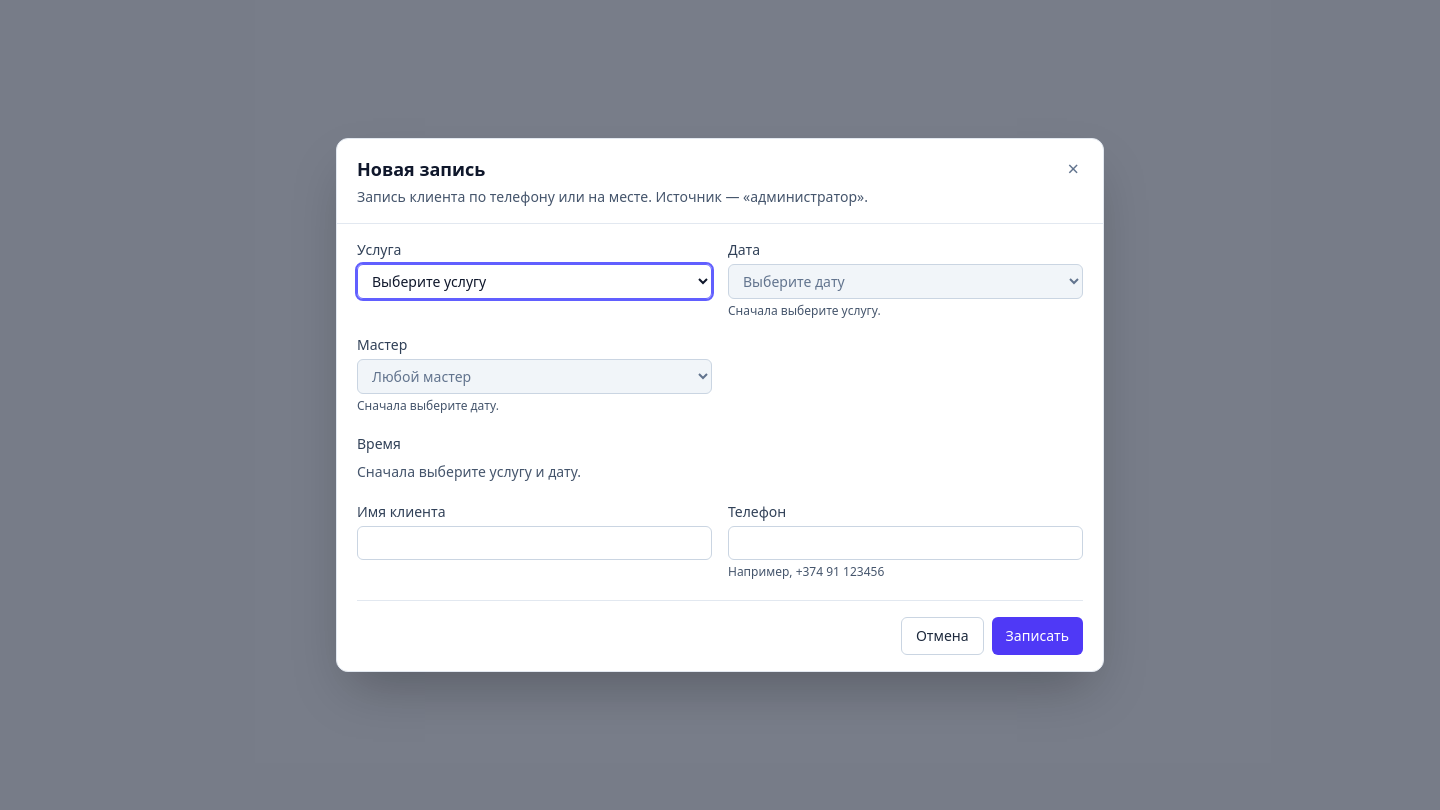
Test: NewBookingDialog › телефон без 5 цифр не отправляется
Select "Мужская стрижка · 30 мин · 4 000 ֏" in the dropdown labelled "Услуга" at (534, 282), box [357,264,712,299]
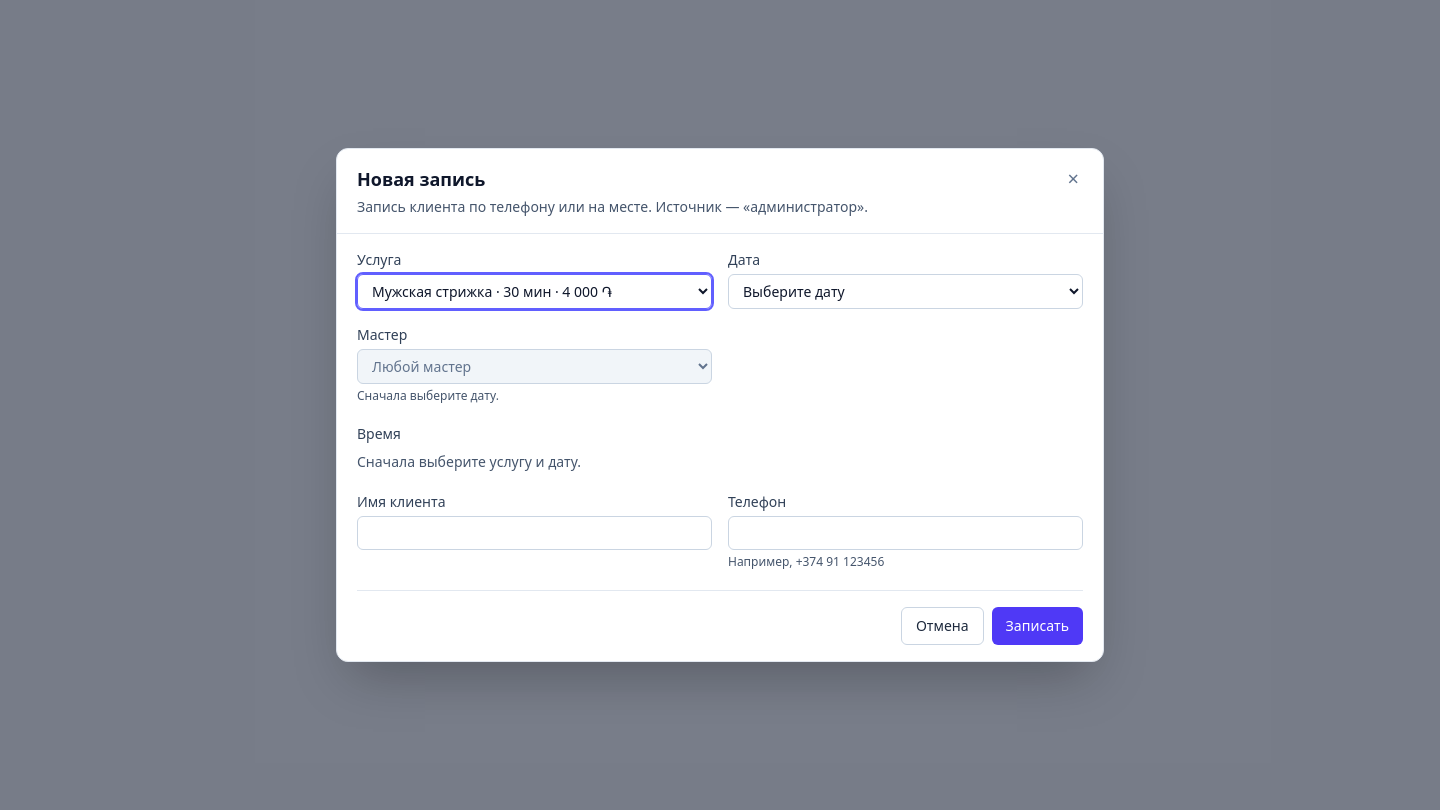
Result: the dropdown labelled "Дата" is enabled
Select "Завтра, чт, 29 октября" in the dropdown labelled "Дата" at (906, 292), box [728,274,1083,309]
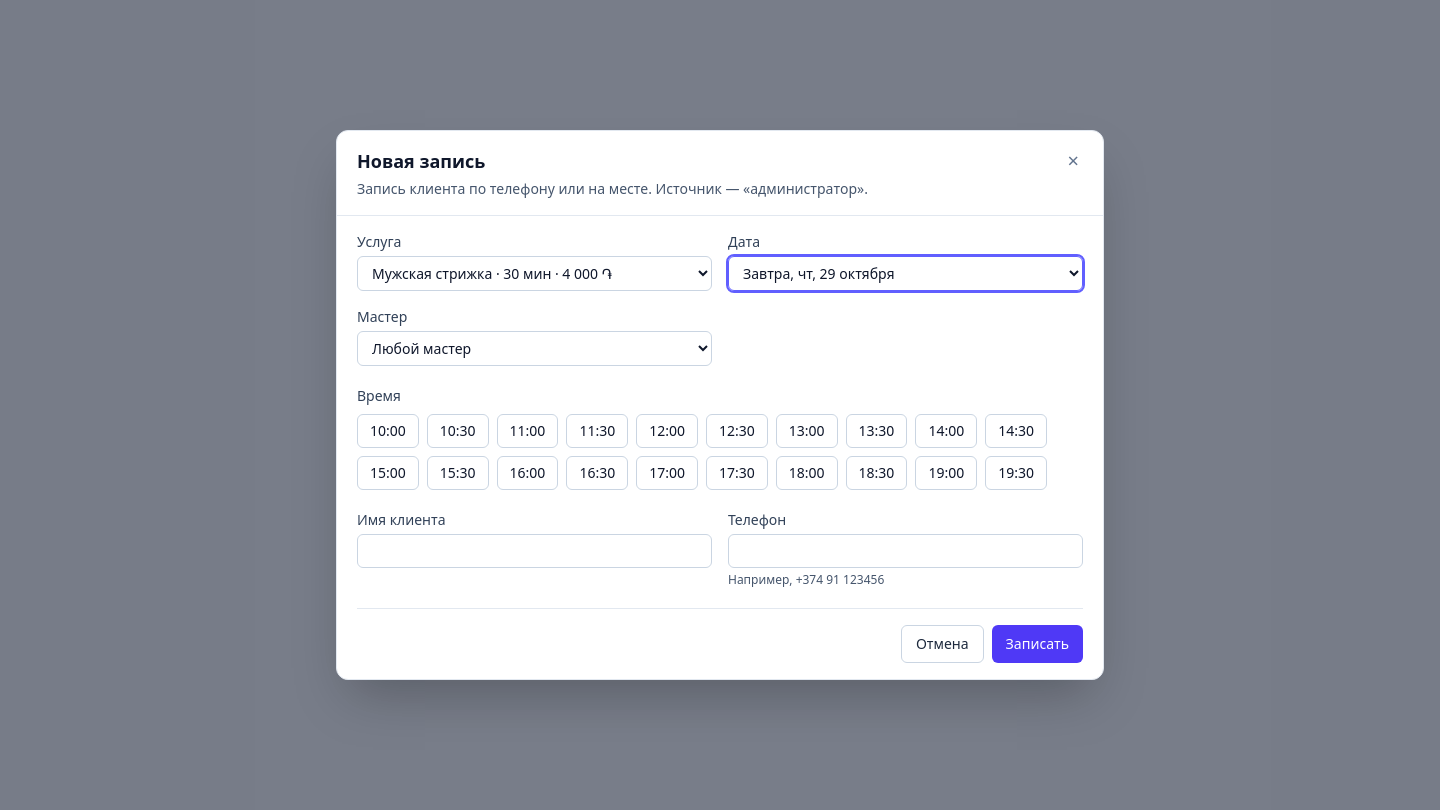
Click the radio button labelled "12:00" at (667, 431), box [636,414,698,448]
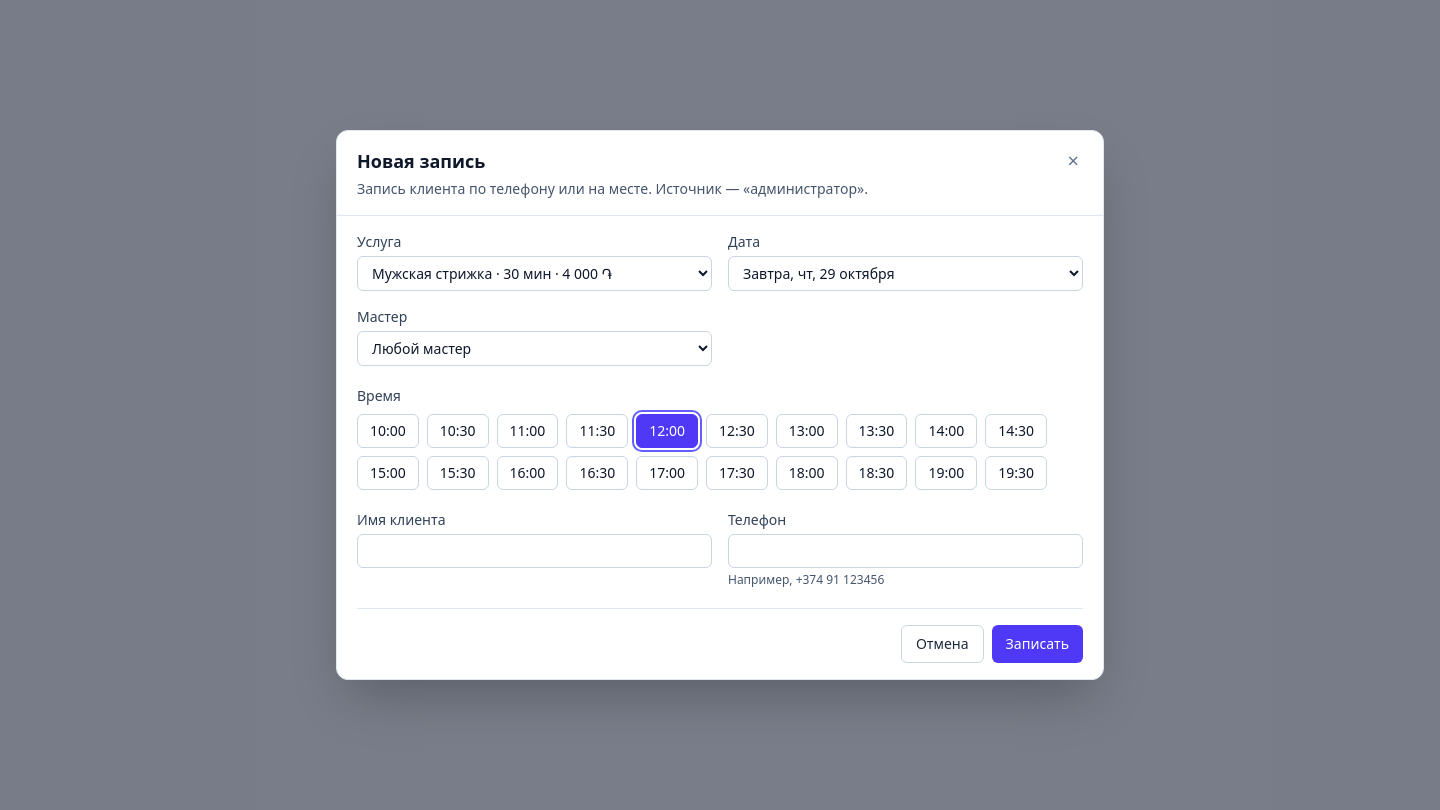
Type "Гаяне" into the field labelled "Имя клиента" at (534, 551), box [357,534,712,568]
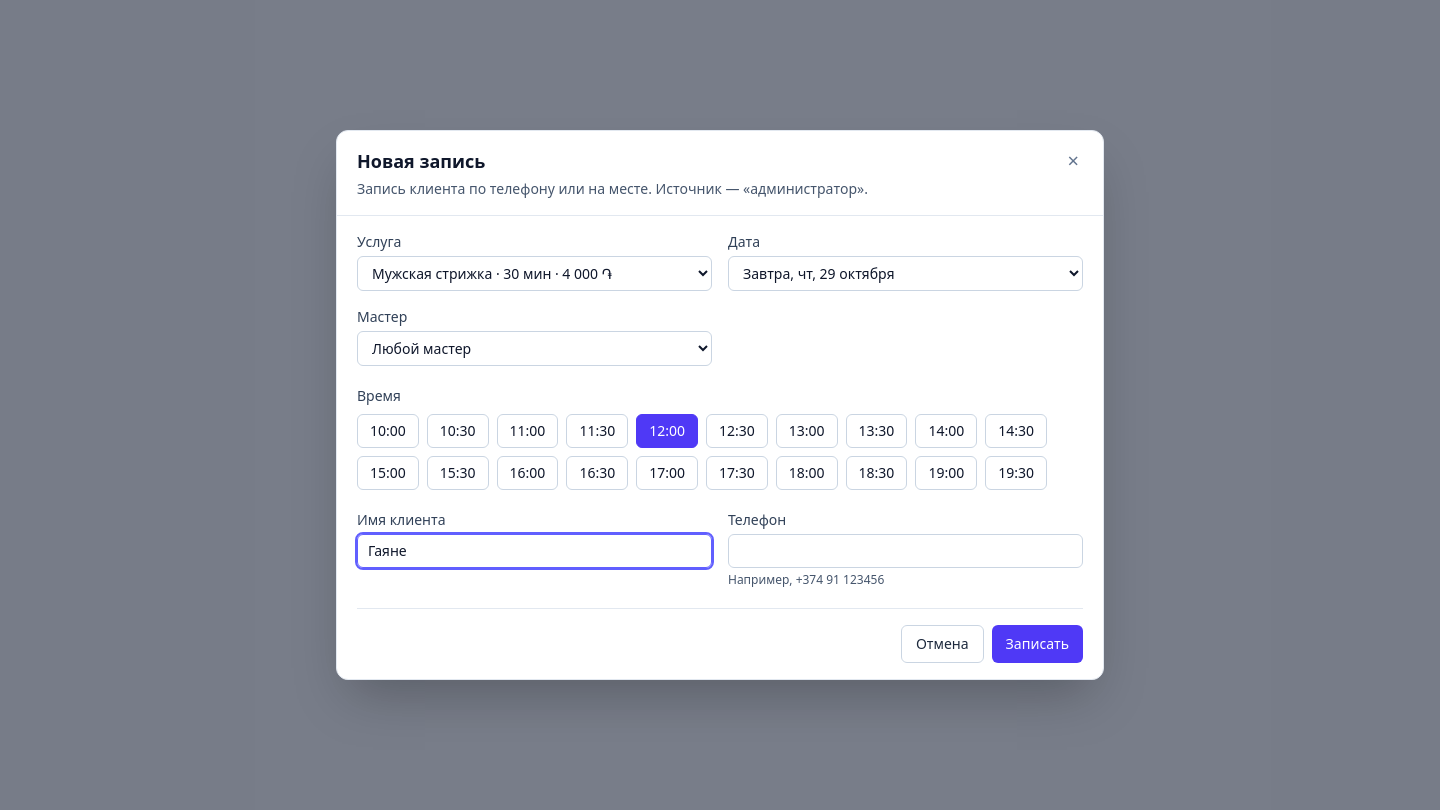
Type "+(12) 3-4" into the field labelled "Телефон" at (906, 551), box [728,534,1083,568]
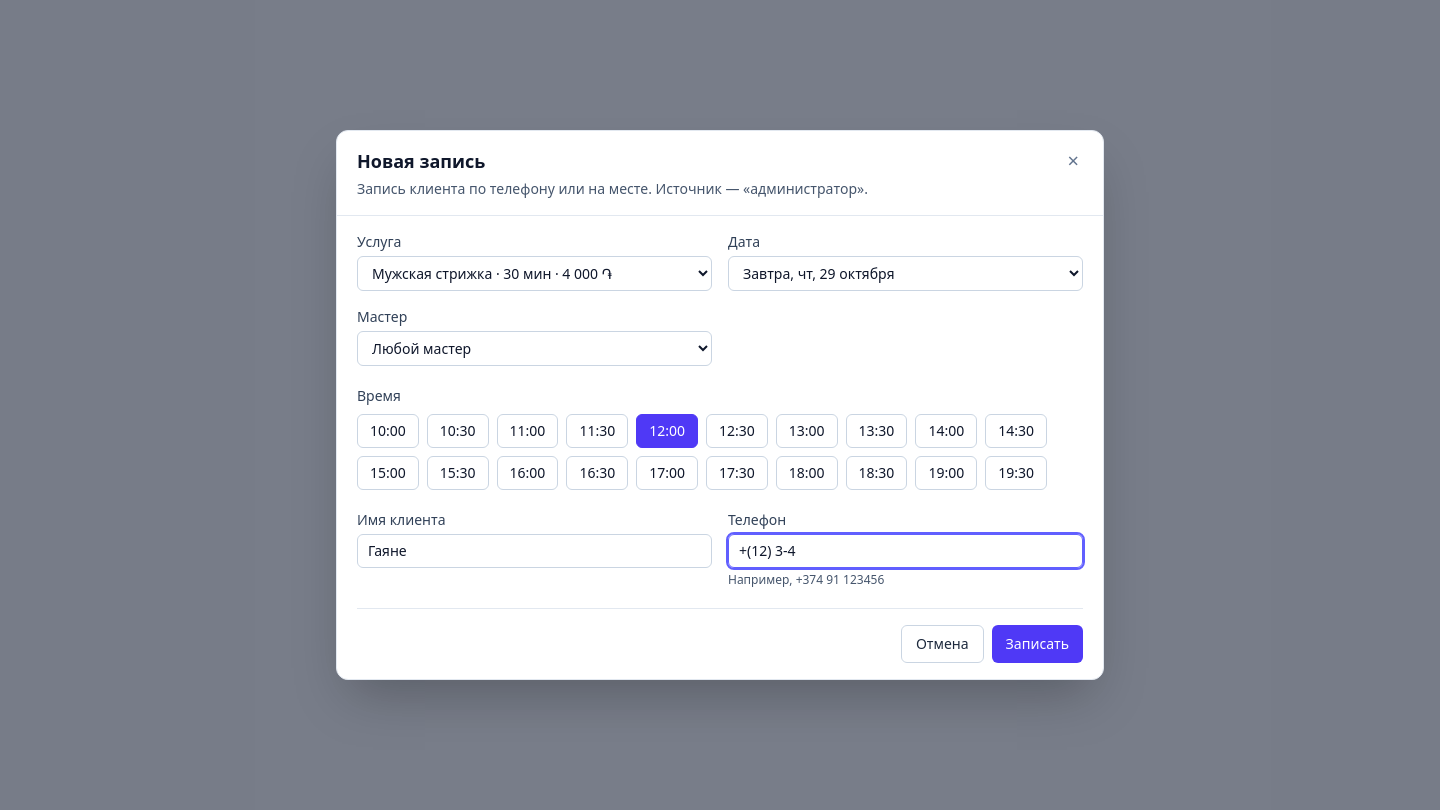
Click the button "Записать" at (1037, 644), box [992,625,1083,663]
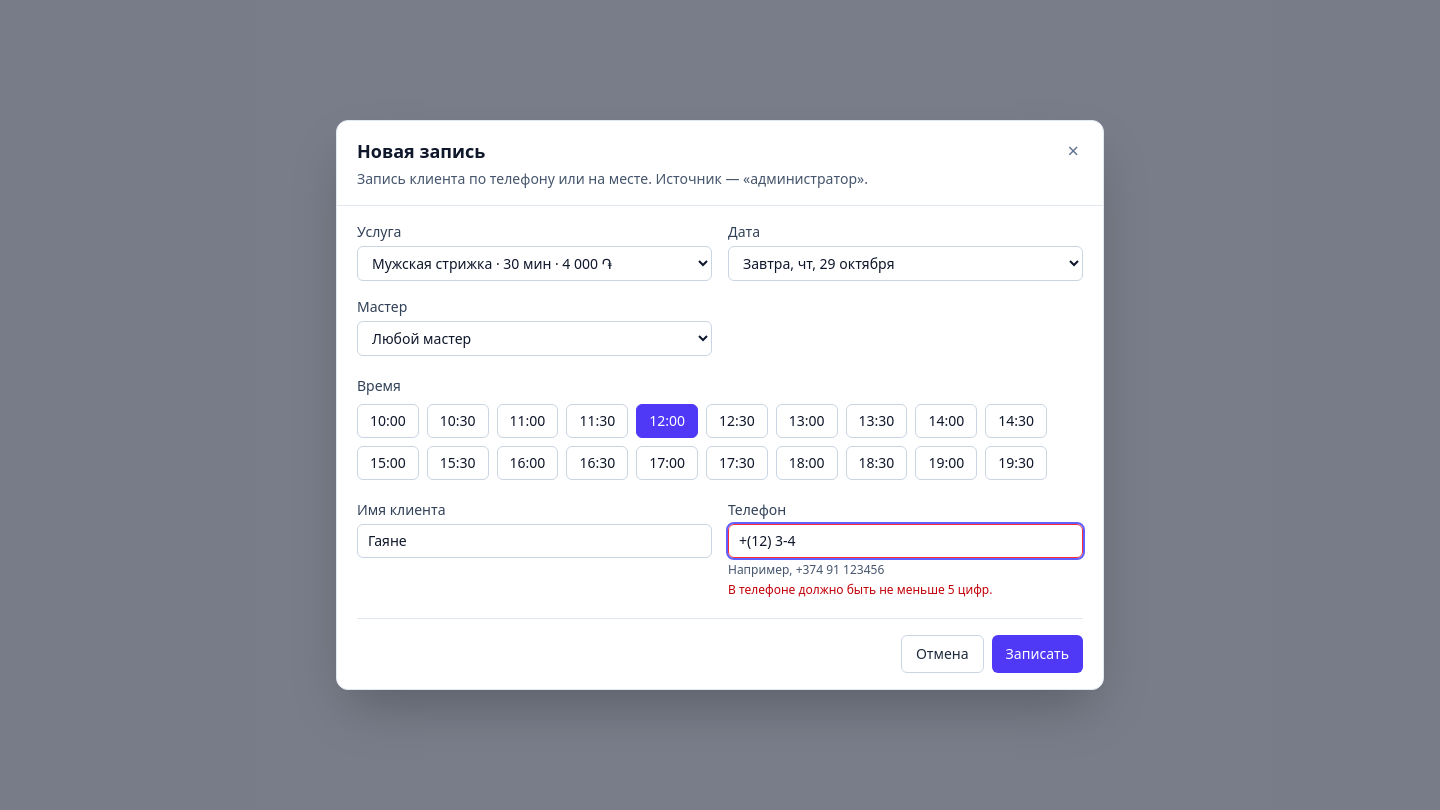
Result: the text "В телефоне должно быть не меньше 5 цифр." is shown at [728,581,992,598]
